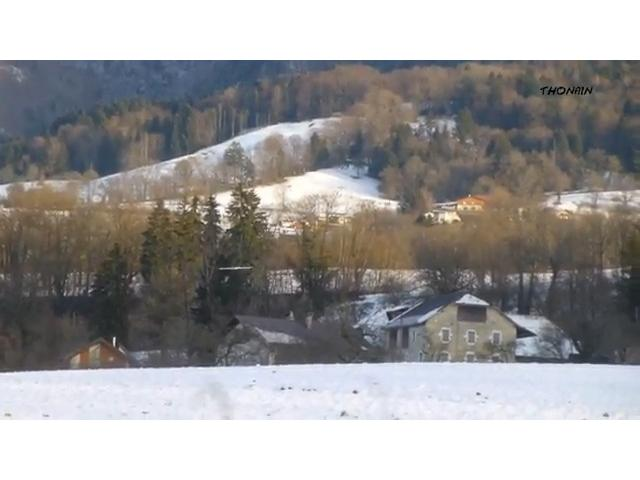Anti-Drone: (220, 267, 252, 269)
